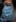with_mask: (2, 1, 16, 22)
